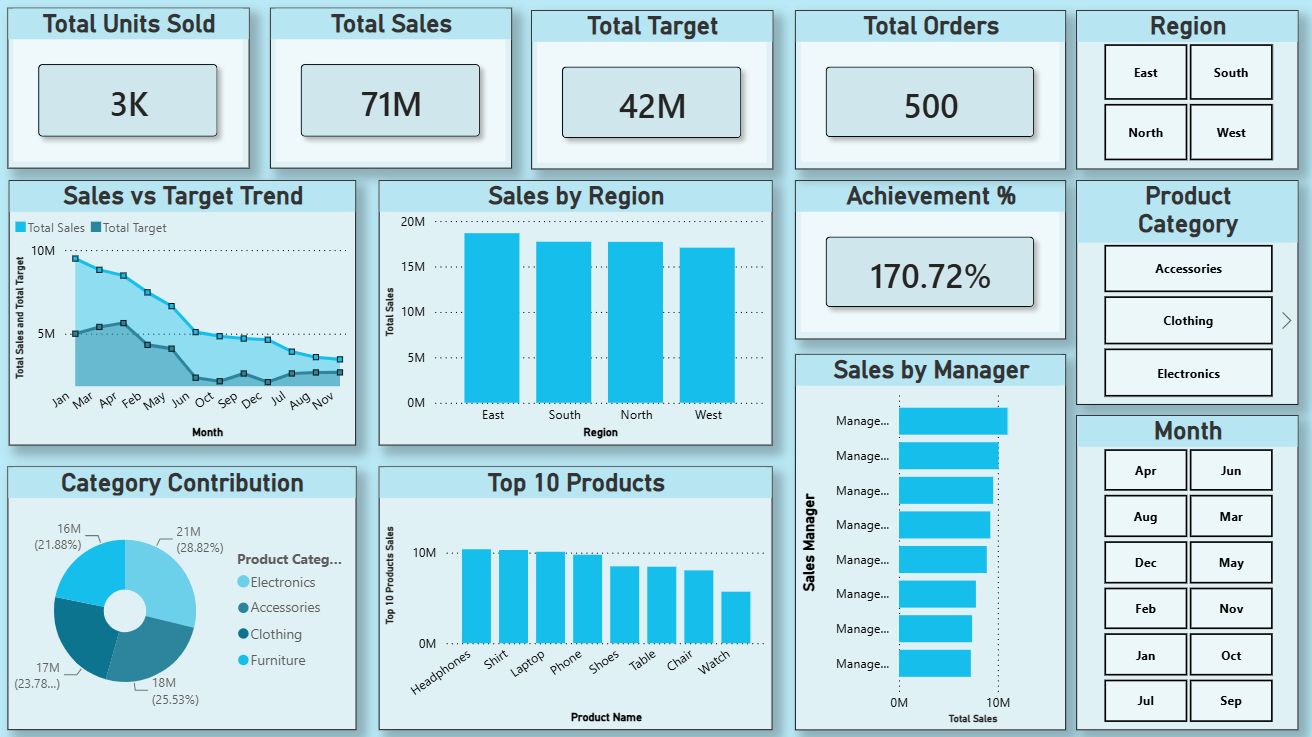

Layout of this report page (visuals, bound fields, positions):
{"tool":"powerbi","page":{"name":"Page 1","canvas":[1280,720],"ordinal":0},"visuals":[{"type":"cardVisual","title":"Total Units Sold","fields":{"Data":["Data.Total Units Sold"]},"box":[16.5,13.7,233.3,155.1],"z":0},{"type":"cardVisual","title":"Total Sales","fields":{"Data":["Data.Total Sales"]},"box":[270.3,13.7,233.3,155.1],"z":1000},{"type":"cardVisual","title":"Total Target","fields":{"Data":["Data.Total Target"]},"box":[522.8,15.1,233.3,153.7],"z":2000},{"type":"cardVisual","title":"Achievement %","fields":{"Data":["Data.Achievement %"]},"box":[776.9,179.8,261.8,153.2],"z":3000},{"type":"cardVisual","title":"Total Orders","fields":{"Data":["Data.Total Orders"]},"box":[776.9,15.7,261.8,153.2],"z":3001},{"type":"lineChart","title":"Sales vs Target Trend","fields":{"Category":["Data.Month"],"Y":["Data.Total Sales","Data.Total Target"]},"box":[18.1,179.8,335.4,255.8],"z":3002},{"type":"clusteredColumnChart","title":"Sales by Region","fields":{"Y":["Data.Total Sales"],"Category":["Data.Region"]},"box":[375.2,179.8,380,255.8],"z":3003},{"type":"clusteredBarChart","title":"Sales by Manager","fields":{"Category":["Data.Sales Manager"],"Y":["Data.Total Sales"]},"box":[776.9,347.5,261.8,363.1],"z":3004},{"type":"donutChart","title":"Category Contribution","fields":{"Category":["Data.Product Category"],"Y":["Data.Total Sales"]},"box":[16.9,456,336.6,254.6],"z":3005},{"type":"clusteredColumnChart","title":"Top 10 Products","fields":{"Category":["Data.Product Name"],"Y":["Data.Top 10 Products Sales"]},"box":[375.2,456,380,254.6],"z":3006},{"type":"slicer","title":"Region","fields":{"Values":["Data.Region"]},"box":[1048.4,15.7,214.7,153.2],"z":3007},{"type":"slicer","title":"Product Category","fields":{"Values":["Data.Product Category"]},"box":[1048.4,179.8,214.7,217.2],"z":3008},{"type":"slicer","title":"Month","fields":{"Values":["Data.Month"]},"box":[1048.4,406.6,214.7,304],"z":3009}]}

Visuals, with their boxes in screenshot pixels (x1, y1, x2, y2), scaled from the page's 1280x720 canvas onto the 1312x737 screenshot:
"Total Units Sold" cardVisual: (left=17, top=14, right=256, bottom=173)
"Total Sales" cardVisual: (left=277, top=14, right=516, bottom=173)
"Total Target" cardVisual: (left=536, top=15, right=775, bottom=173)
"Achievement %" cardVisual: (left=796, top=184, right=1065, bottom=341)
"Total Orders" cardVisual: (left=796, top=16, right=1065, bottom=173)
"Sales vs Target Trend" lineChart: (left=19, top=184, right=362, bottom=446)
"Sales by Region" clusteredColumnChart: (left=385, top=184, right=774, bottom=446)
"Sales by Manager" clusteredBarChart: (left=796, top=356, right=1065, bottom=727)
"Category Contribution" donutChart: (left=17, top=467, right=362, bottom=727)
"Top 10 Products" clusteredColumnChart: (left=385, top=467, right=774, bottom=727)
"Region" slicer: (left=1075, top=16, right=1295, bottom=173)
"Product Category" slicer: (left=1075, top=184, right=1295, bottom=406)
"Month" slicer: (left=1075, top=416, right=1295, bottom=727)
